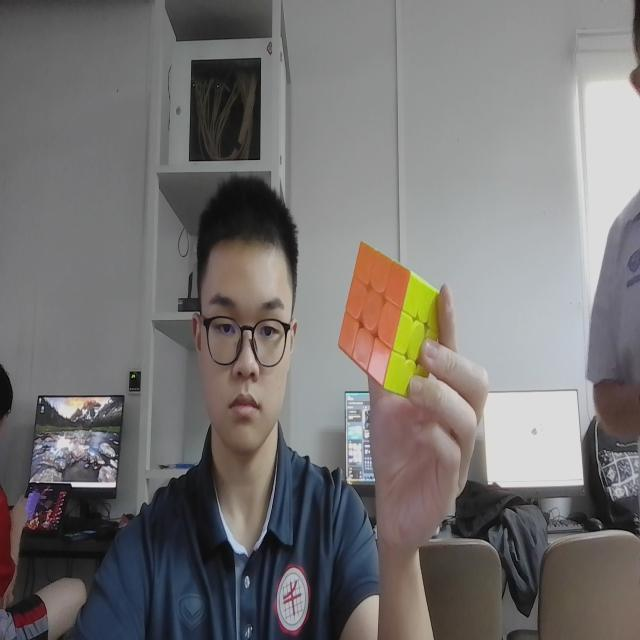rubik: (334, 231, 456, 414)
